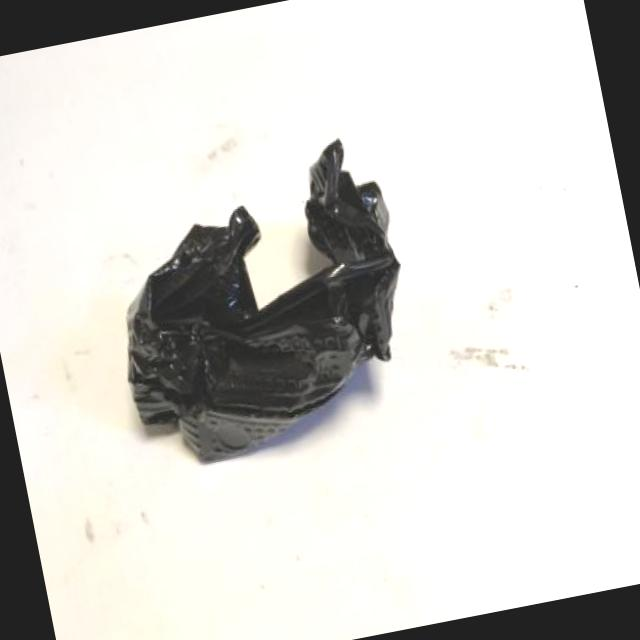Trash: (94, 134, 431, 473)
